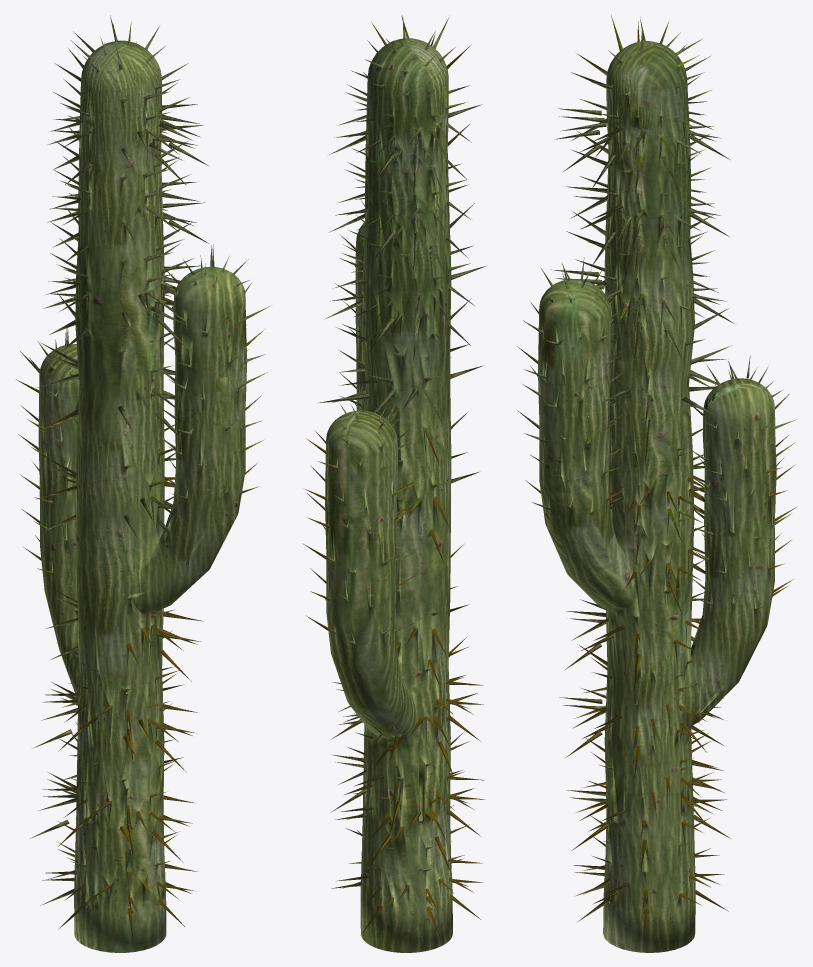
Rendered from cactus1.obj.
3 views of the same model, side by side, from view 1: azimuth 30°, elevation 25°; view 2: azimuth 150°, elevation 25°; view 3: azimuth 270°, elevation 25° (orthographic).
Parts seen in each view (by area): view 1: Cactus 1_0; view 2: Cactus 1_0; view 3: Cactus 1_0.
Boxes of the visible parts, bbox=[...] form: Cactus 1_0: bbox=[16, 15, 271, 952]; Cactus 1_0: bbox=[302, 15, 485, 952]; Cactus 1_0: bbox=[517, 15, 797, 952].
Bounding box in the file's own units: 0.7855 × 4.04 × 1.13.
1 material, 1 textured.
